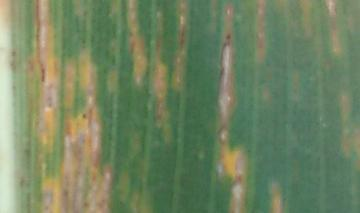tarspot: (225, 33, 233, 41), (81, 113, 87, 118)
